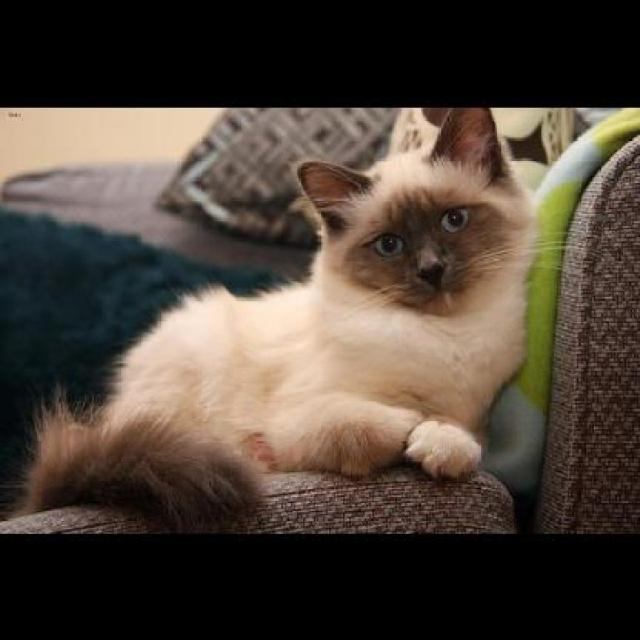unauthorized: (0, 106, 565, 531)
